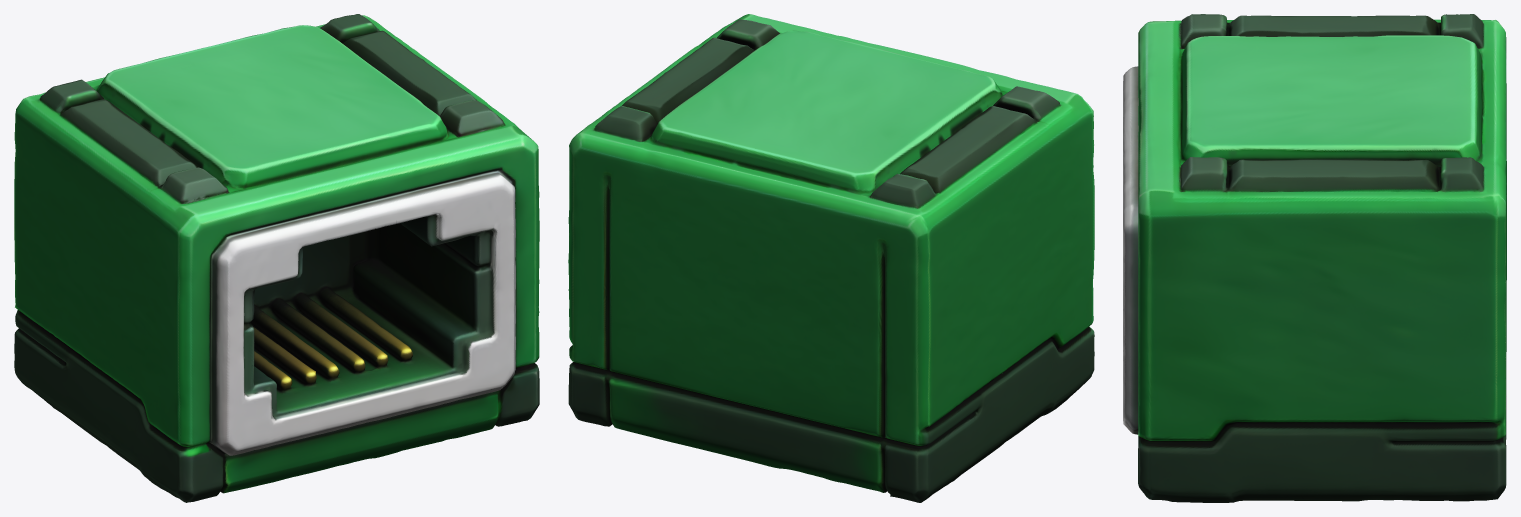
Rendered from green_socket.fbx.
3 renders of one model, left to right at view 1: azimuth 30°, elevation 25°; view 2: azimuth 150°, elevation 25°; view 3: azimuth 270°, elevation 25°, orthographic. The views are drawn at different scales.
Parts seen in each view (by area): view 1: model.004; view 2: model.004; view 3: model.004.
Boxes of the visible parts, x1,y1,x2,y2 form: model.004: (14, 14, 539, 502); model.004: (568, 14, 1094, 502); model.004: (1123, 14, 1506, 502).
Bounding box in the file's own units: 96.45 × 77.57 × 83.49.
1 material, 1 textured.
